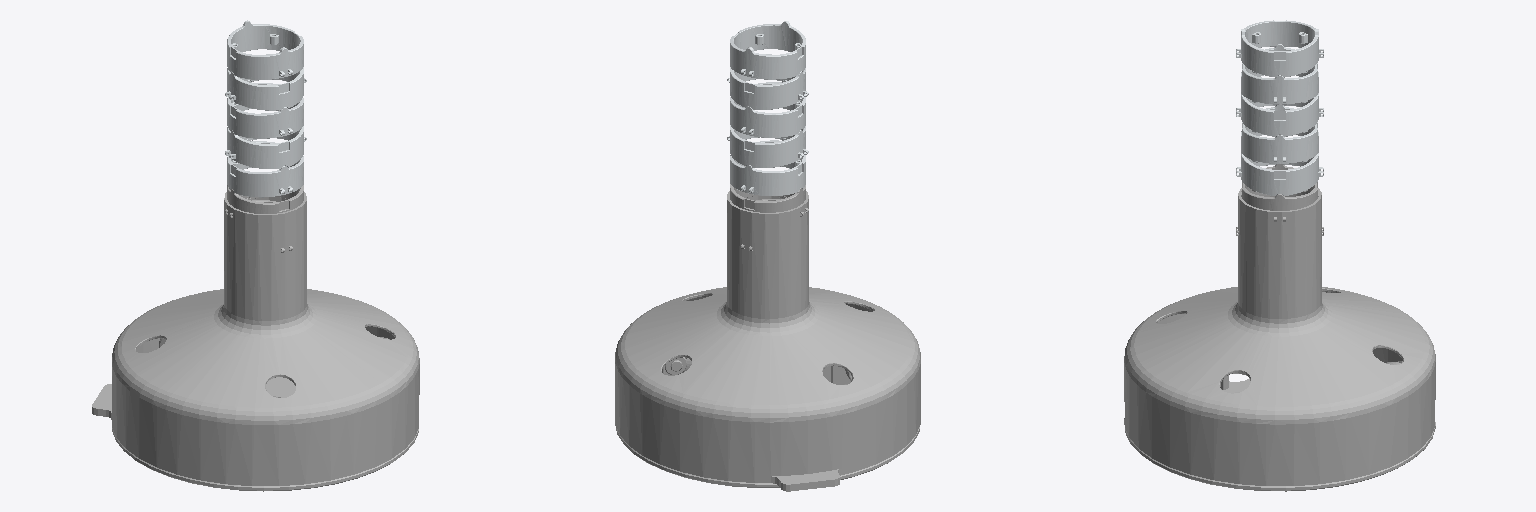
robot.urdf — snake_robot2:
<?xml version="1.0" encoding="utf-8"?>
<!-- This URDF was automatically created by SolidWorks to URDF Exporter! Originally created by [author] ([email redacted]) 
     Commit Version: 1.6.0-1-g15f4949  Build Version: 1.6.7594.29634
     For more information, please see http://wiki.ros.org/sw_urdf_exporter -->
<robot
  name="snake_robot2">
  <link
    name="base_link">
    <visual>
      <origin
        xyz="0 0 0"
        rpy="0 0 0" />
      <geometry>
        <mesh
          filename="package://snake_robot2/meshes/base_link.STL" />
      </geometry>
      <material
        name="">
        <color
          rgba="0.75294 0.75294 0.75294 1" />
      </material>
    </visual>
    <collision>
      <origin
        xyz="0 0 0"
        rpy="0 0 0" />
      <geometry>
        <mesh
          filename="package://snake_robot2/meshes/base_link.STL" />
      </geometry>
    </collision>
  </link>
  <link
    name="link1">
    <inertial>
      <origin
        xyz="5.5313E-09 3.6738E-09 0.010533"
        rpy="0 0 0" />
      <mass
        value="0.018285" />
      <inertia
        ixx="5.7939E-06"
        ixy="-9.0258E-10"
        ixz="-4.854E-14"
        iyy="5.3329E-06"
        iyz="-9.0945E-13"
        izz="1.0221E-05" />
    </inertial>
    <visual>
      <origin
        xyz="0 0 0"
        rpy="0 0 0" />
      <geometry>
        <mesh
          filename="package://snake_robot2/meshes/link1.STL" />
      </geometry>
      <material
        name="">
        <color
          rgba="0.89804 0.91765 0.92941 1" />
      </material>
    </visual>
    <collision>
      <origin
        xyz="0 0 0"
        rpy="0 0 0" />
      <geometry>
        <mesh
          filename="package://snake_robot2/meshes/link1.STL" />
      </geometry>
    </collision>
  </link>
  <joint
    name="joint1"
    type="revolute">
    <origin
      xyz="0 0 0.1735"
      rpy="0 0 0" />
    <parent
      link="base_link" />
    <child
      link="link1" />
    <axis
      xyz="1 0 0" />
    <limit
      lower="-0.17"
      upper="0.17"
      effort="0"
      velocity="0" />
  </joint>
  <link
    name="link2">
    <inertial>
      <origin
        xyz="-3.6738E-09 5.5318E-09 0.010533"
        rpy="0 0 0" />
      <mass
        value="0.018285" />
      <inertia
        ixx="5.3329E-06"
        ixy="9.0258E-10"
        ixz="9.0945E-13"
        iyy="5.7939E-06"
        iyz="-4.854E-14"
        izz="1.0221E-05" />
    </inertial>
    <visual>
      <origin
        xyz="0 0 0"
        rpy="0 0 0" />
      <geometry>
        <mesh
          filename="package://snake_robot2/meshes/link2.STL" />
      </geometry>
      <material
        name="">
        <color
          rgba="0.89804 0.91765 0.92941 1" />
      </material>
    </visual>
    <collision>
      <origin
        xyz="0 0 0"
        rpy="0 0 0" />
      <geometry>
        <mesh
          filename="package://snake_robot2/meshes/link2.STL" />
      </geometry>
    </collision>
  </link>
  <joint
    name="joint2"
    type="revolute">
    <origin
      xyz="0 0 0.021"
      rpy="0 0 0" />
    <parent
      link="link1" />
    <child
      link="link2" />
    <axis
      xyz="0 -1 0" />
    <limit
      lower="-0.17"
      upper="0.17"
      effort="0"
      velocity="0" />
  </joint>
  <link
    name="link3">
    <inertial>
      <origin
        xyz="5.5313E-09 3.6738E-09 0.010533"
        rpy="0 0 0" />
      <mass
        value="0.018285" />
      <inertia
        ixx="5.7939E-06"
        ixy="-9.0258E-10"
        ixz="-4.854E-14"
        iyy="5.3329E-06"
        iyz="-9.0945E-13"
        izz="1.0221E-05" />
    </inertial>
    <visual>
      <origin
        xyz="0 0 0"
        rpy="0 0 0" />
      <geometry>
        <mesh
          filename="package://snake_robot2/meshes/link3.STL" />
      </geometry>
      <material
        name="">
        <color
          rgba="0.89804 0.91765 0.92941 1" />
      </material>
    </visual>
    <collision>
      <origin
        xyz="0 0 0"
        rpy="0 0 0" />
      <geometry>
        <mesh
          filename="package://snake_robot2/meshes/link3.STL" />
      </geometry>
    </collision>
  </link>
  <joint
    name="joint3"
    type="revolute">
    <origin
      xyz="0 0 0.021"
      rpy="0 0 0" />
    <parent
      link="link2" />
    <child
      link="link3" />
    <axis
      xyz="1 0 0" />
    <limit
      lower="-0.17"
      upper="0.17"
      effort="0"
      velocity="0" />
  </joint>
  <link
    name="link4">
    <inertial>
      <origin
        xyz="-3.6738E-09 5.5318E-09 0.010533"
        rpy="0 0 0" />
      <mass
        value="0.018285" />
      <inertia
        ixx="5.3329E-06"
        ixy="9.0258E-10"
        ixz="9.0945E-13"
        iyy="5.7939E-06"
        iyz="-4.854E-14"
        izz="1.0221E-05" />
    </inertial>
    <visual>
      <origin
        xyz="0 0 0"
        rpy="0 0 0" />
      <geometry>
        <mesh
          filename="package://snake_robot2/meshes/link4.STL" />
      </geometry>
      <material
        name="">
        <color
          rgba="0.89804 0.91765 0.92941 1" />
      </material>
    </visual>
    <collision>
      <origin
        xyz="0 0 0"
        rpy="0 0 0" />
      <geometry>
        <mesh
          filename="package://snake_robot2/meshes/link4.STL" />
      </geometry>
    </collision>
  </link>
  <joint
    name="joint4"
    type="revolute">
    <origin
      xyz="0 0 0.021"
      rpy="0 0 0" />
    <parent
      link="link3" />
    <child
      link="link4" />
    <axis
      xyz="0 -1 0" />
    <limit
      lower="-0.17"
      upper="0.17"
      effort="0"
      velocity="0" />
  </joint>
  <link
    name="link5">
    <inertial>
      <origin
        xyz="5.5313E-09 3.6738E-09 0.010533"
        rpy="0 0 0" />
      <mass
        value="0.018285" />
      <inertia
        ixx="5.7939E-06"
        ixy="-9.0258E-10"
        ixz="-4.854E-14"
        iyy="5.3329E-06"
        iyz="-9.0945E-13"
        izz="1.0221E-05" />
    </inertial>
    <visual>
      <origin
        xyz="0 0 0"
        rpy="0 0 0" />
      <geometry>
        <mesh
          filename="package://snake_robot2/meshes/link5.STL" />
      </geometry>
      <material
        name="">
        <color
          rgba="0.89804 0.91765 0.92941 1" />
      </material>
    </visual>
    <collision>
      <origin
        xyz="0 0 0"
        rpy="0 0 0" />
      <geometry>
        <mesh
          filename="package://snake_robot2/meshes/link5.STL" />
      </geometry>
    </collision>
  </link>
  <joint
    name="joint5"
    type="revolute">
    <origin
      xyz="0 0 0.021"
      rpy="0 0 0" />
    <parent
      link="link4" />
    <child
      link="link5" />
    <axis
      xyz="1 0 0" />
    <limit
      lower="-0.17"
      upper="0.17"
      effort="0"
      velocity="0" />
  </joint>
</robot>

--- Facts derived from the render (not from the file) ---
Views: 3 orthographic renders of the robot side by side, from view 1: azimuth 30°, elevation 25°; view 2: azimuth 150°, elevation 25°; view 3: azimuth 270°, elevation 25°.
Robot: snake_robot2 — 6 links, 5 joints (5 revolute); root link base_link; default pose: every joint at zero.
Links seen in each view (by area): view 1: base_link, link5, link1, link3, link4, link2; view 2: base_link, link5, link1, link3, link4, link2; view 3: base_link, link5, link4, link1, link3, link2.
Link boxes in pixels (box(x1,y1,x2,y2)): base_link: box(92, 185, 419, 491); link5: box(227, 20, 303, 79); link1: box(227, 139, 303, 197); link3: box(227, 80, 303, 138); link4: box(225, 54, 306, 110); link2: box(225, 113, 306, 168); base_link: box(615, 184, 920, 491); link5: box(730, 21, 805, 79); link1: box(730, 138, 805, 195); link3: box(730, 80, 805, 137); link4: box(727, 54, 808, 109); link2: box(727, 112, 808, 167); base_link: box(1124, 164, 1435, 491); link5: box(1236, 20, 1323, 77); link4: box(1241, 44, 1318, 104); link1: box(1236, 152, 1323, 195); link3: box(1236, 93, 1323, 136); link2: box(1241, 105, 1318, 163).
Bounding box of the posed robot: 0.1999 × 0.1999 × 0.281 m (x, y, z).
6 mesh visuals loaded from 6 distinct referenced files (6 binary STL).
